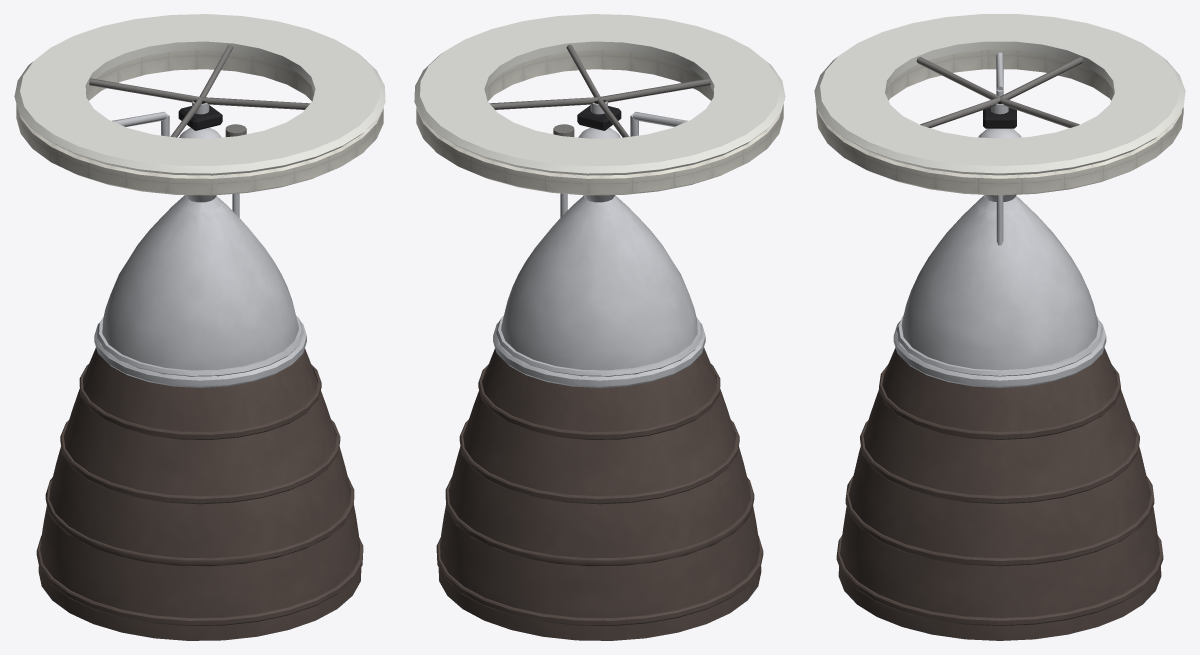
File: ax_prop_10_hydrolox_vac_m_deployed.glb
3 views of the same model, side by side, from view 1: azimuth 30°, elevation 25°; view 2: azimuth 150°, elevation 25°; view 3: azimuth 270°, elevation 25° (orthographic).
Parts seen in each view (by area): view 1: nozzle_extension, mount_ring, regen_nozzle, thermal_blanket_ring, extension_hoops, joint_flange, thrust_struts, regen_manifold, plumbing, gimbal; view 2: nozzle_extension, mount_ring, regen_nozzle, thermal_blanket_ring, extension_hoops, joint_flange, thrust_struts, regen_manifold, plumbing, gimbal; view 3: nozzle_extension, mount_ring, regen_nozzle, thermal_blanket_ring, extension_hoops, joint_flange, thrust_struts, regen_manifold, plumbing, gimbal, injector_dome.
Part boxes in pixels (box(x1,y1,x2,y2)): nozzle_extension: box(38, 348, 361, 640); mount_ring: box(14, 14, 385, 175); regen_nozzle: box(102, 195, 298, 370); thermal_blanket_ring: box(16, 50, 383, 195); extension_hoops: box(36, 364, 363, 625); joint_flange: box(94, 322, 306, 387); thrust_struts: box(89, 44, 310, 137); regen_manifold: box(97, 315, 303, 376); plumbing: box(112, 111, 239, 217); gimbal: box(178, 100, 222, 130); nozzle_extension: box(438, 348, 761, 640); mount_ring: box(414, 14, 785, 175); regen_nozzle: box(501, 195, 697, 370); thermal_blanket_ring: box(416, 50, 783, 195); extension_hoops: box(436, 364, 763, 625); joint_flange: box(493, 322, 705, 387); thrust_struts: box(489, 44, 710, 137); regen_manifold: box(496, 315, 702, 376); plumbing: box(560, 111, 687, 217); gimbal: box(577, 100, 621, 130); nozzle_extension: box(838, 348, 1161, 640); mount_ring: box(814, 14, 1185, 175); regen_nozzle: box(901, 196, 1098, 370); thermal_blanket_ring: box(816, 50, 1183, 195); extension_hoops: box(836, 364, 1163, 625); joint_flange: box(893, 320, 1106, 387); thrust_struts: box(916, 57, 1083, 127); regen_manifold: box(896, 316, 1103, 376); plumbing: box(996, 52, 1003, 245); gimbal: box(983, 101, 1016, 128); injector_dome: box(978, 104, 1021, 138).
Size of the model in its own units: 2.5 by 3.59 by 2.5.
Materials: 6 (4 with a texture image).
